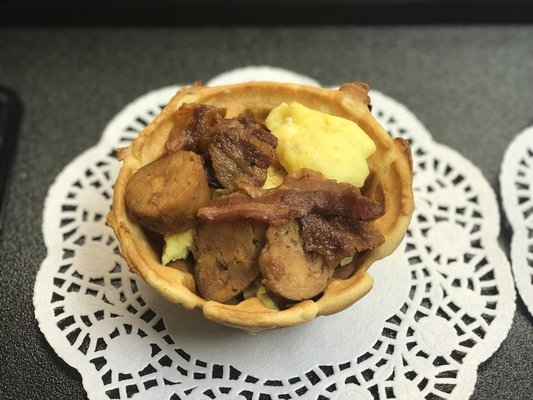soup: (111, 78, 416, 333)
